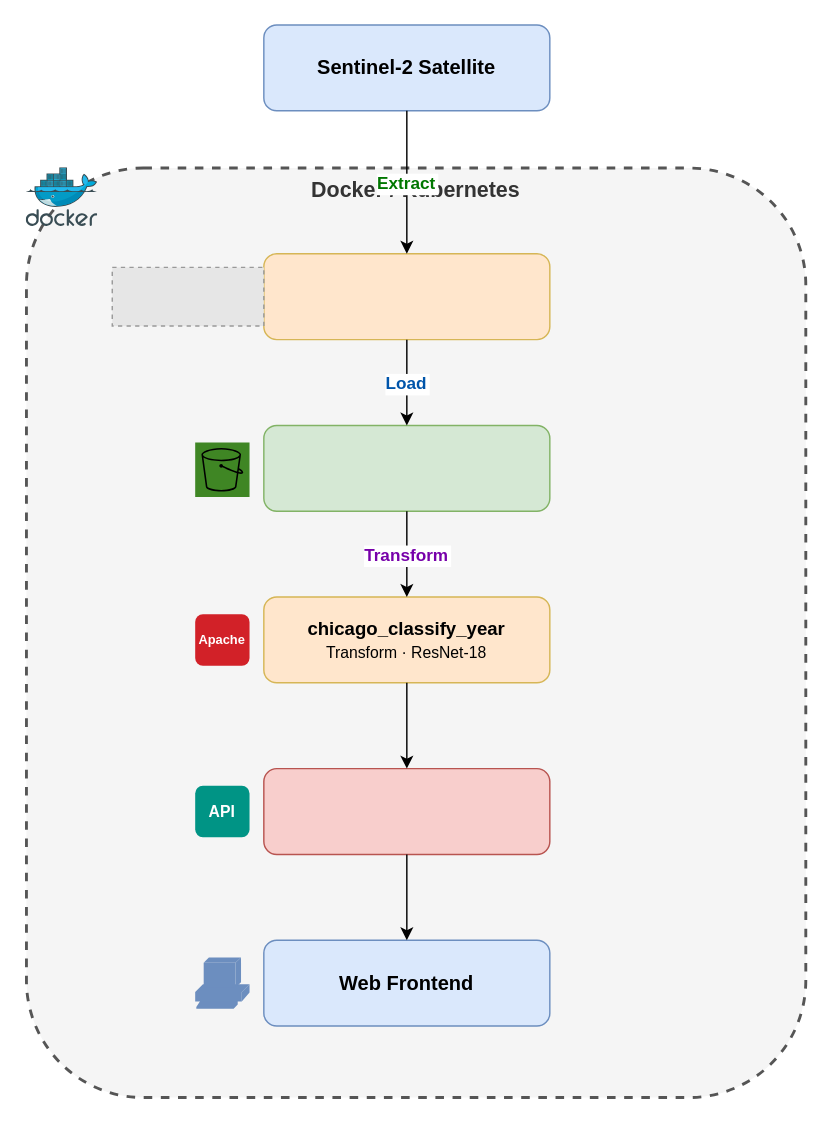
This 831x1124 diagram has some shape labels left out. Grey dashed boxes stand in for pictures. The shapes that lost their labels are listed below. From the top down, each one's centre as x and y in pixels, then its label:
At pixel 406 296: "chicago_fetch_year Extract & Load".
At pixel 406 467: "AWS S3 (MinIO)".
At pixel 406 810: "FastAPI Backend".
